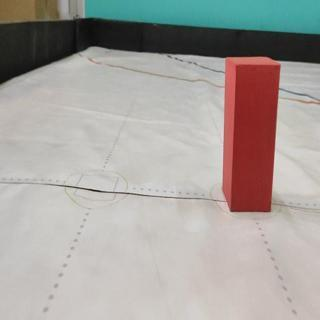redbox: (223, 57, 280, 212)
